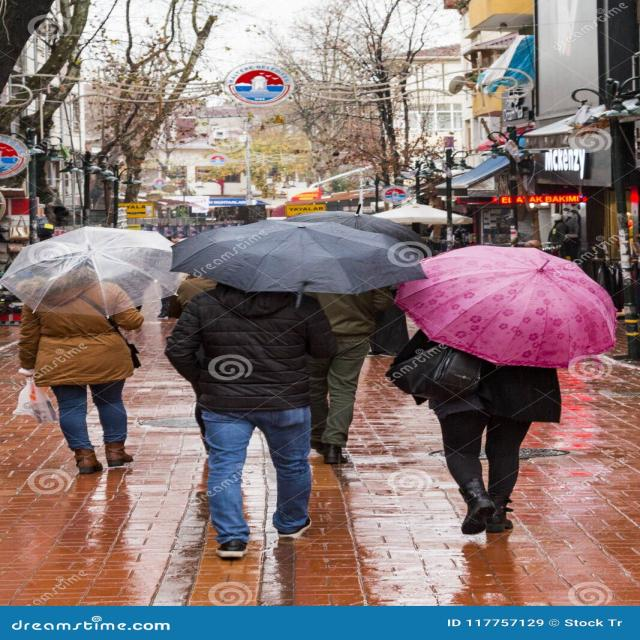Walking: (388, 257, 576, 538), (176, 212, 323, 562), (12, 242, 145, 471)
